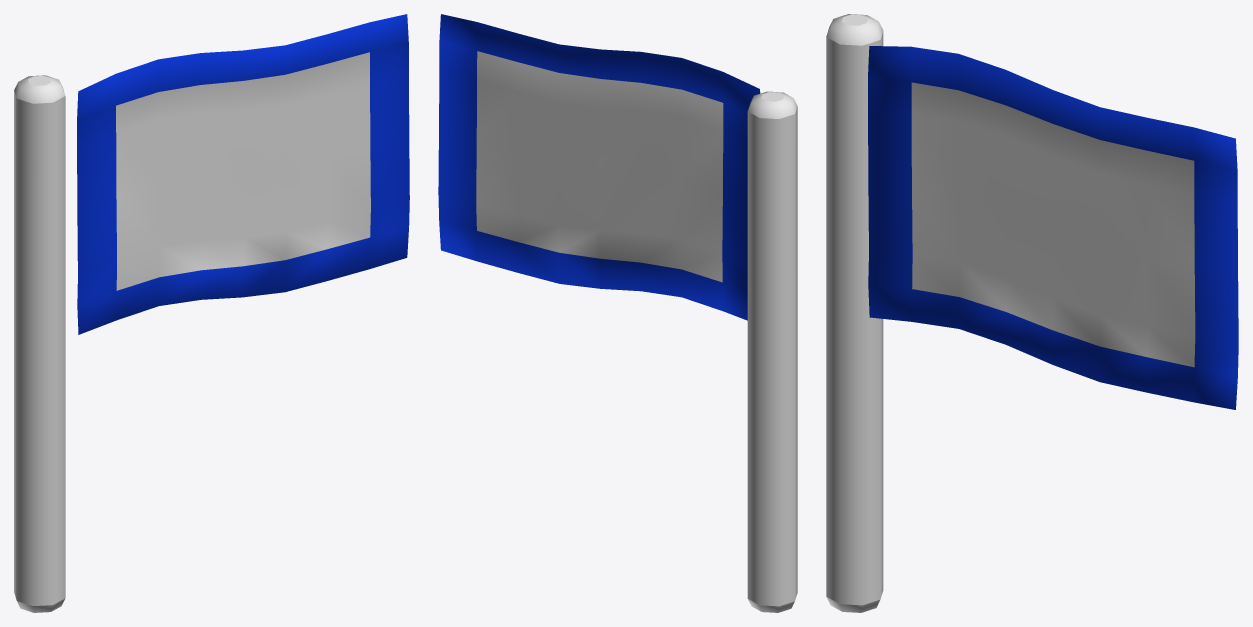
File: flag_rec.fbx
3 views of the same model, side by side, from view 1: azimuth 30°, elevation 25°; view 2: azimuth 150°, elevation 25°; view 3: azimuth 330°, elevation 25° (orthographic). The views are drawn at different scales.
Visible parts, largest first — view 1: flag, handle; view 2: flag, handle; view 3: flag, handle.
Part boxes in pixels (x1,y1,x2,y2): flag: (77,14,409,334); handle: (14,75,65,612); flag: (438,14,760,320); handle: (747,91,797,612); flag: (868,46,1238,409); handle: (826,14,883,612).
Bounding box in the file's own units: 0.462 × 0.6169 × 0.0559.
